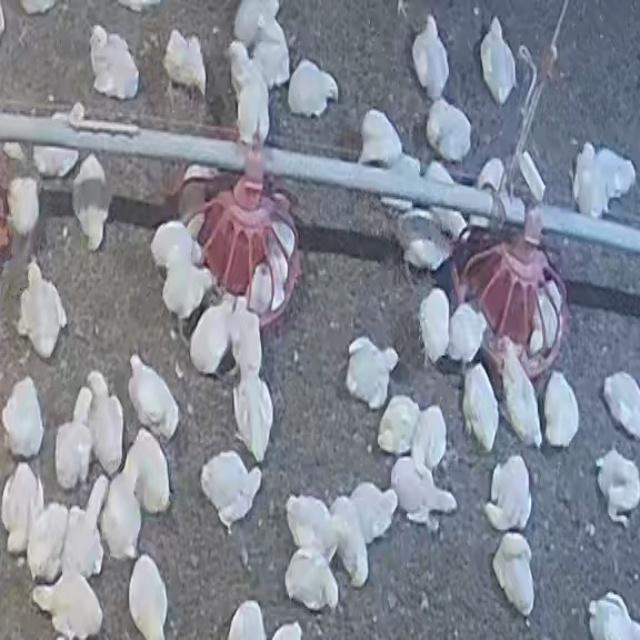chicken: (328, 486, 398, 583), (34, 568, 106, 640), (18, 260, 68, 360), (62, 473, 108, 581), (199, 452, 262, 529), (126, 353, 180, 442), (498, 342, 543, 446), (86, 21, 144, 101), (391, 456, 457, 524), (123, 429, 173, 518), (84, 372, 126, 476), (227, 45, 271, 144), (53, 388, 95, 491), (421, 159, 471, 243), (1, 462, 43, 557), (99, 464, 141, 558), (72, 153, 112, 251), (1, 374, 46, 461), (345, 337, 398, 410), (232, 375, 274, 464), (491, 533, 535, 616), (283, 548, 340, 612), (486, 454, 532, 532), (188, 300, 234, 378), (398, 204, 450, 273), (128, 556, 170, 640), (595, 448, 640, 526), (461, 360, 500, 450), (25, 500, 68, 580), (161, 257, 217, 318), (149, 209, 211, 263), (479, 16, 517, 104), (411, 15, 450, 100), (162, 29, 208, 99), (284, 494, 335, 556), (426, 99, 474, 163), (250, 17, 291, 91), (287, 60, 337, 118), (543, 372, 580, 448), (572, 142, 608, 220), (32, 121, 80, 179), (358, 108, 403, 167), (601, 372, 640, 440), (419, 287, 452, 366), (447, 301, 487, 366), (412, 404, 450, 472), (592, 146, 638, 200), (587, 591, 639, 638), (376, 397, 420, 452), (533, 281, 564, 355), (6, 175, 41, 239), (233, 0, 280, 46), (249, 266, 286, 314), (263, 236, 292, 290)
